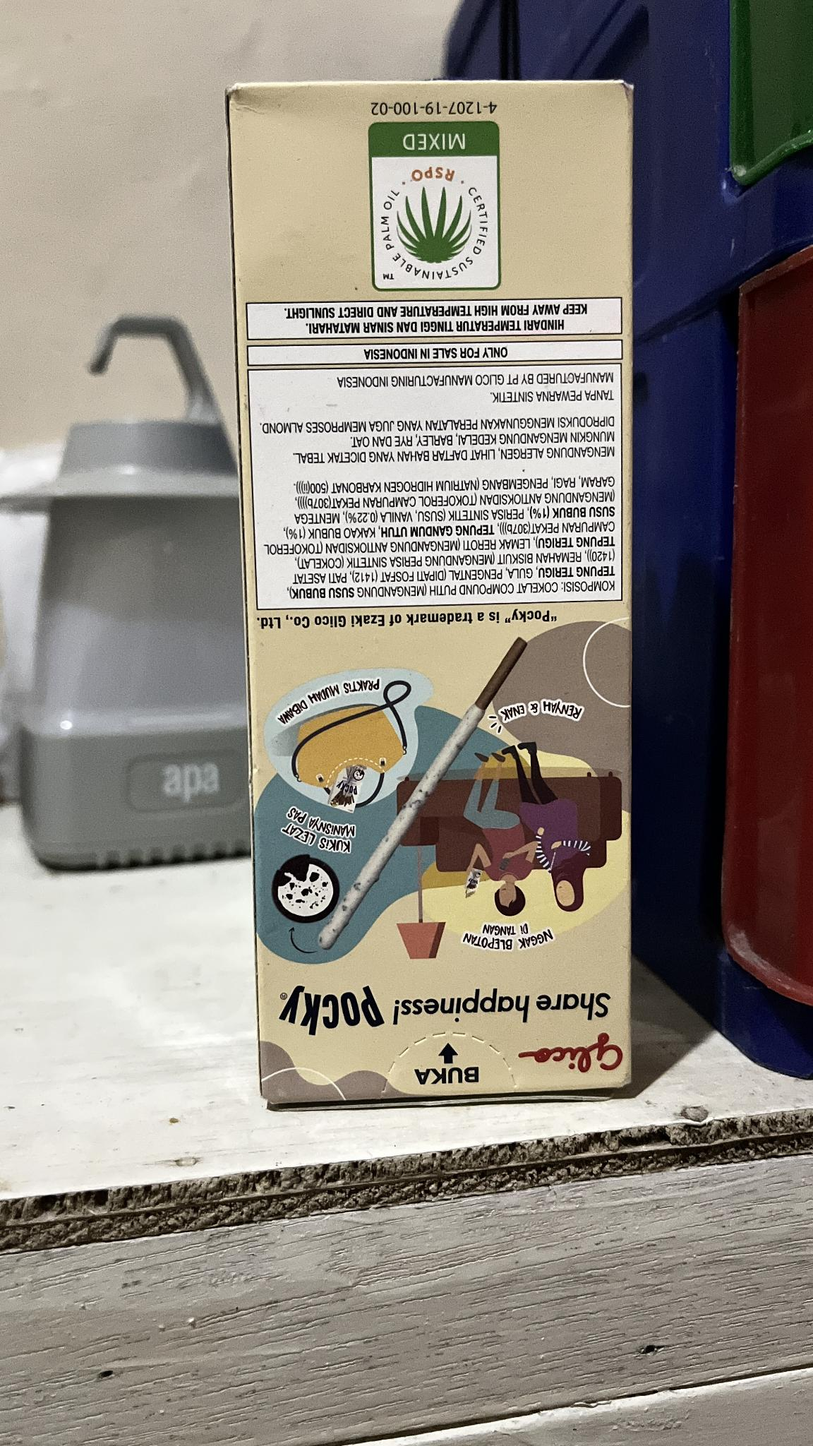Kertas: (226, 82, 638, 1112)
